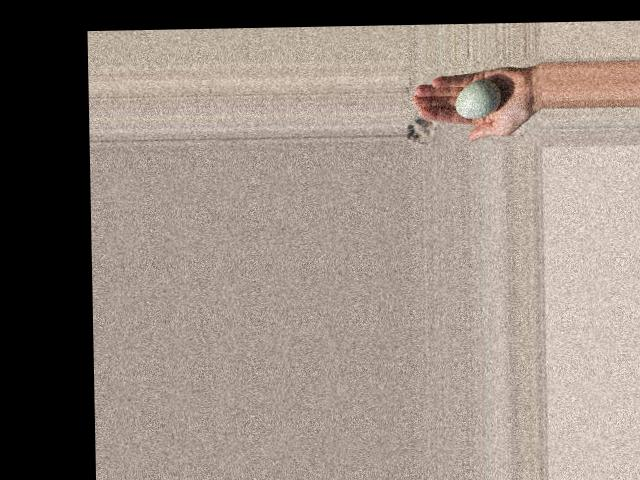egg: (453, 79, 500, 118)
